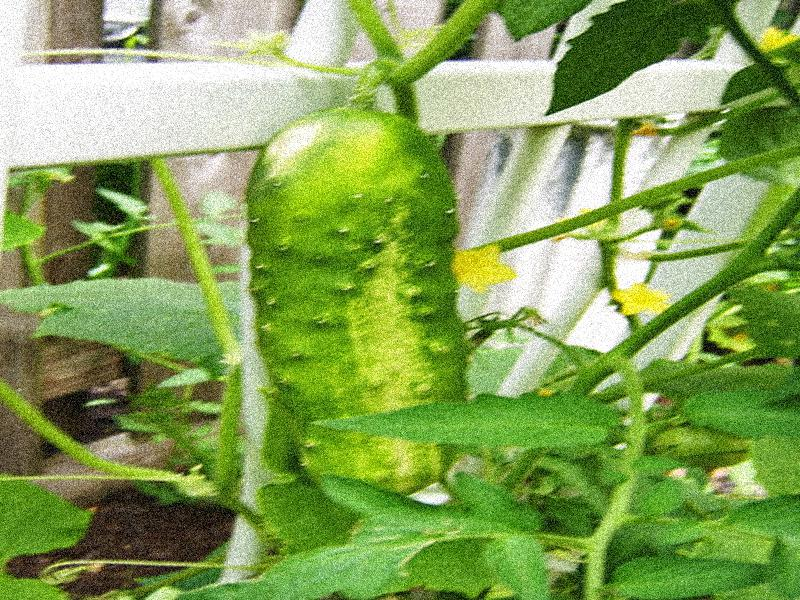Cucumber: (249, 107, 457, 491)
